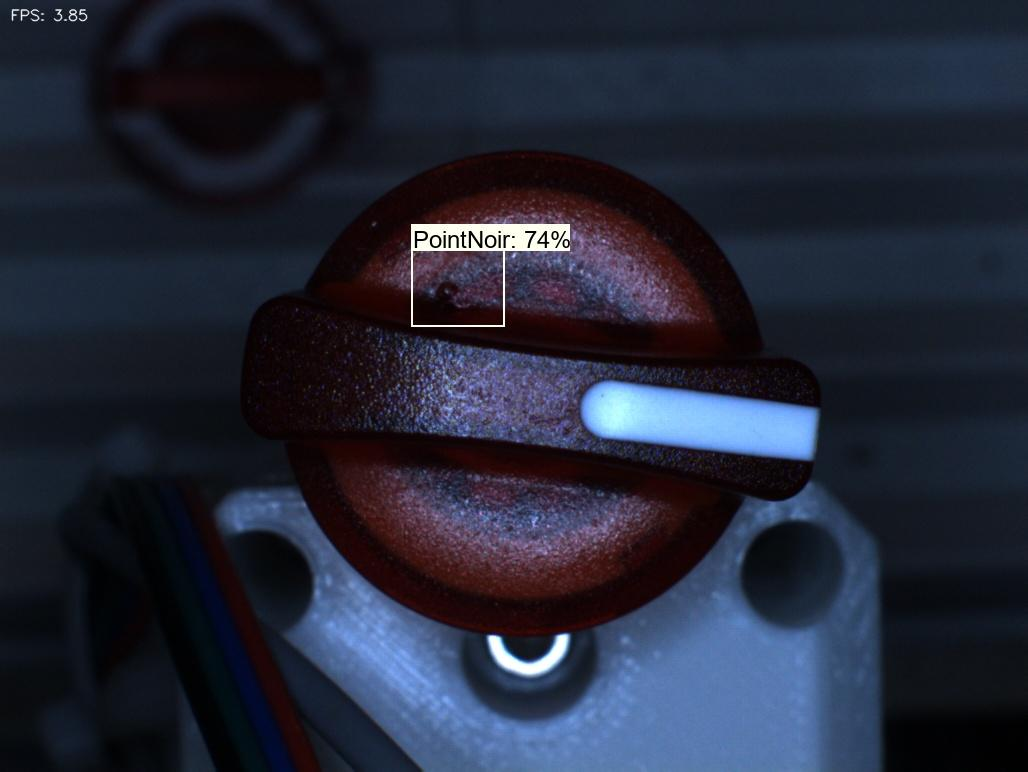Choc: (414, 252, 497, 338)
